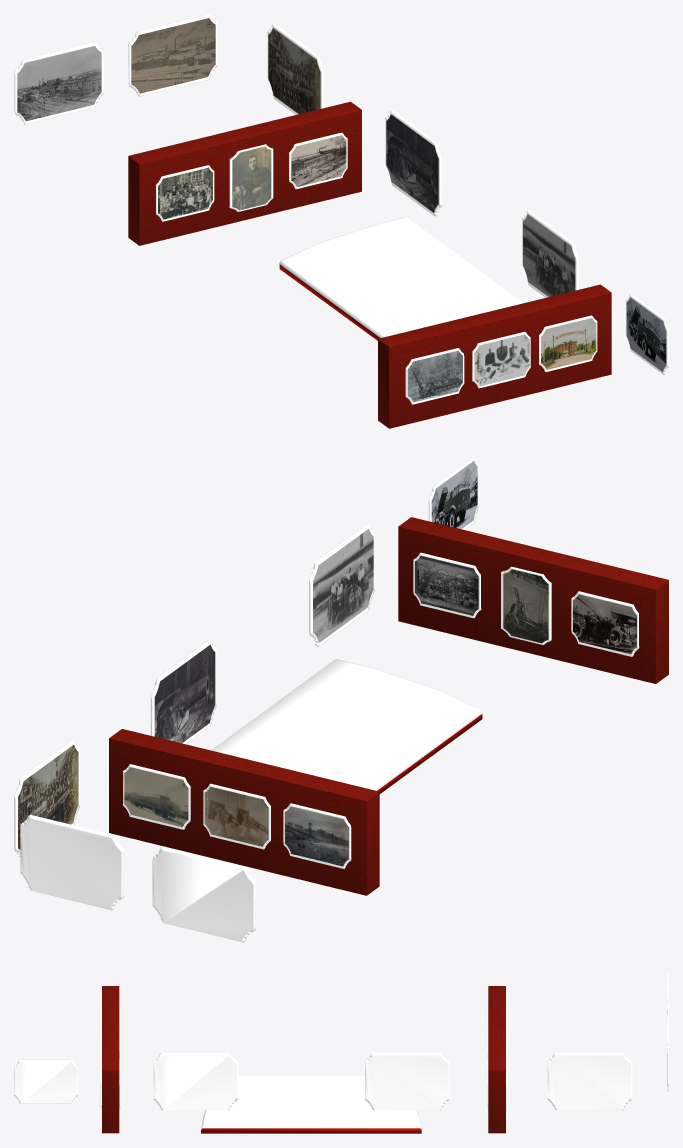
Rendered from zal2.glb.
The picture shows the model from 3 angles, top to bottom: view 1: azimuth 30°, elevation 25°; view 2: azimuth 150°, elevation 25°; view 3: azimuth 270°, elevation 25°; orthographic projection. The views are drawn at different scales.
Visible parts, largest first — view 1: yadra; view 2: yadra; view 3: yadra.
Part boxes in pixels (<box>): yadra: <box>14,14,668,428</box>; yadra: <box>14,457,668,942</box>; yadra: <box>14,971,668,1133</box>.
Bounding box in the file's own units: 14.76 × 6.4 × 46.74.
Materials: 25 (19 with a texture image).
